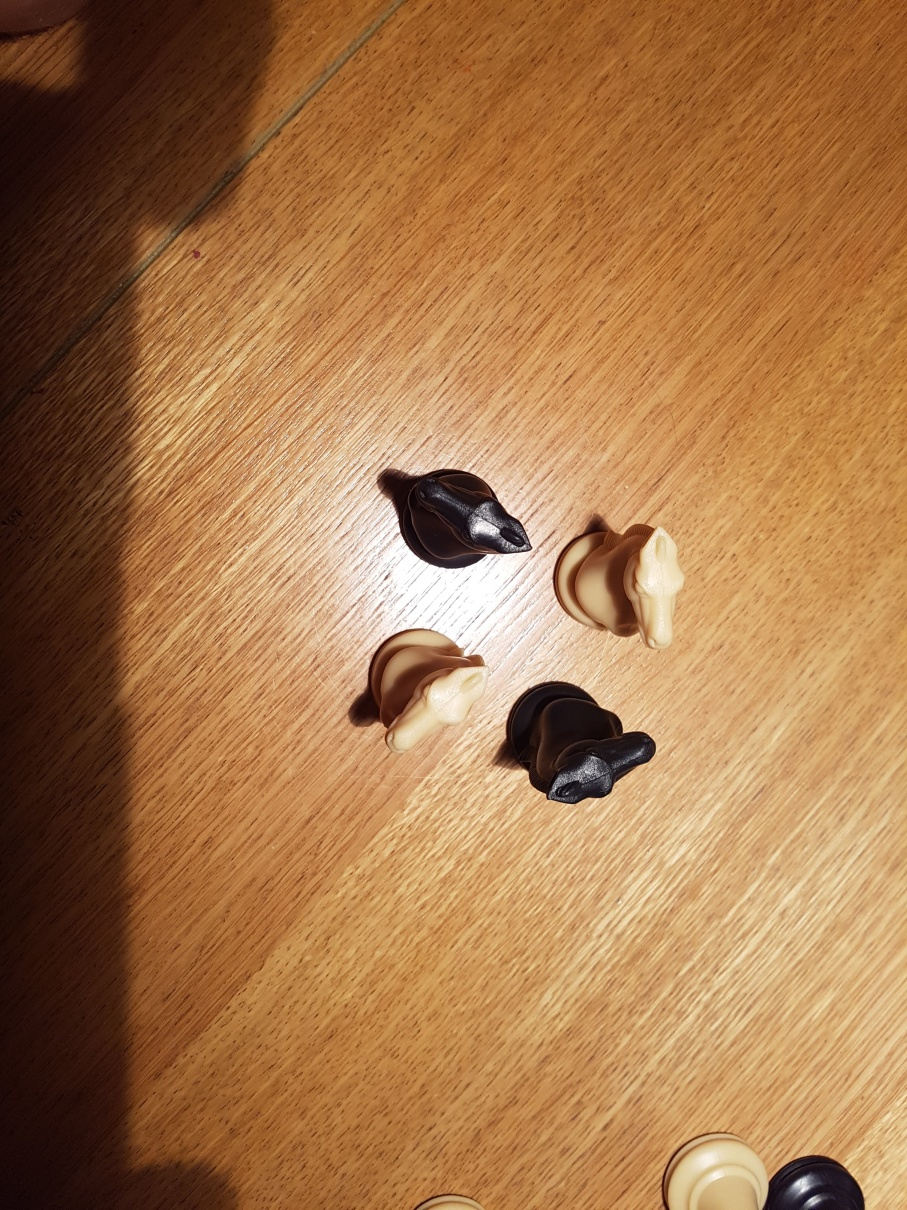chess_knight: (508, 681, 657, 802), (555, 524, 684, 655), (376, 464, 534, 567), (367, 629, 487, 753)
